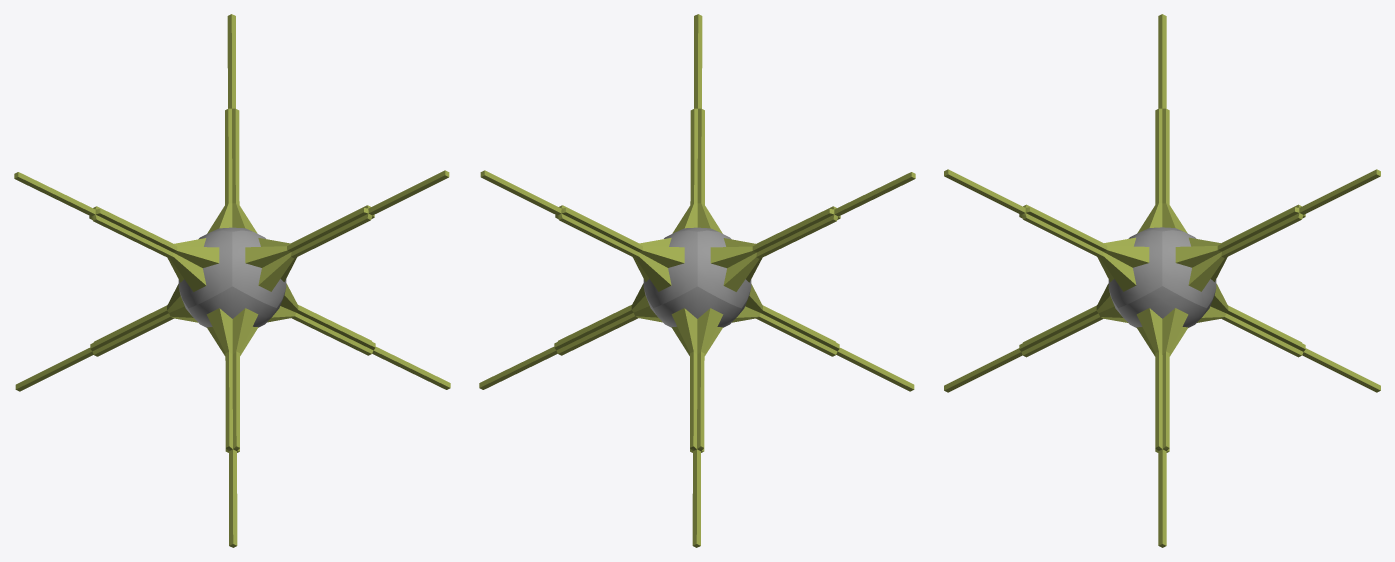
The model's file is Caltrop.FBX.
The picture shows the model from 3 angles, left to right: view 1: azimuth 30°, elevation 25°; view 2: azimuth 150°, elevation 25°; view 3: azimuth 270°, elevation 25°; orthographic projection.
Visible parts, largest first — view 1: Caltrop Spikes, Box001; view 2: Caltrop Spikes, Box001; view 3: Caltrop Spikes, Box001.
Part boxes in pixels (x1,y1,x2,y2): Caltrop Spikes: (14,14,450,547); Box001: (178,227,286,327); Caltrop Spikes: (479,14,915,547); Box001: (643,227,751,327); Caltrop Spikes: (944,14,1380,547); Box001: (1108,227,1216,327).
Bounding box in the file's own units: 55.7 × 39.76 × 48.09.
